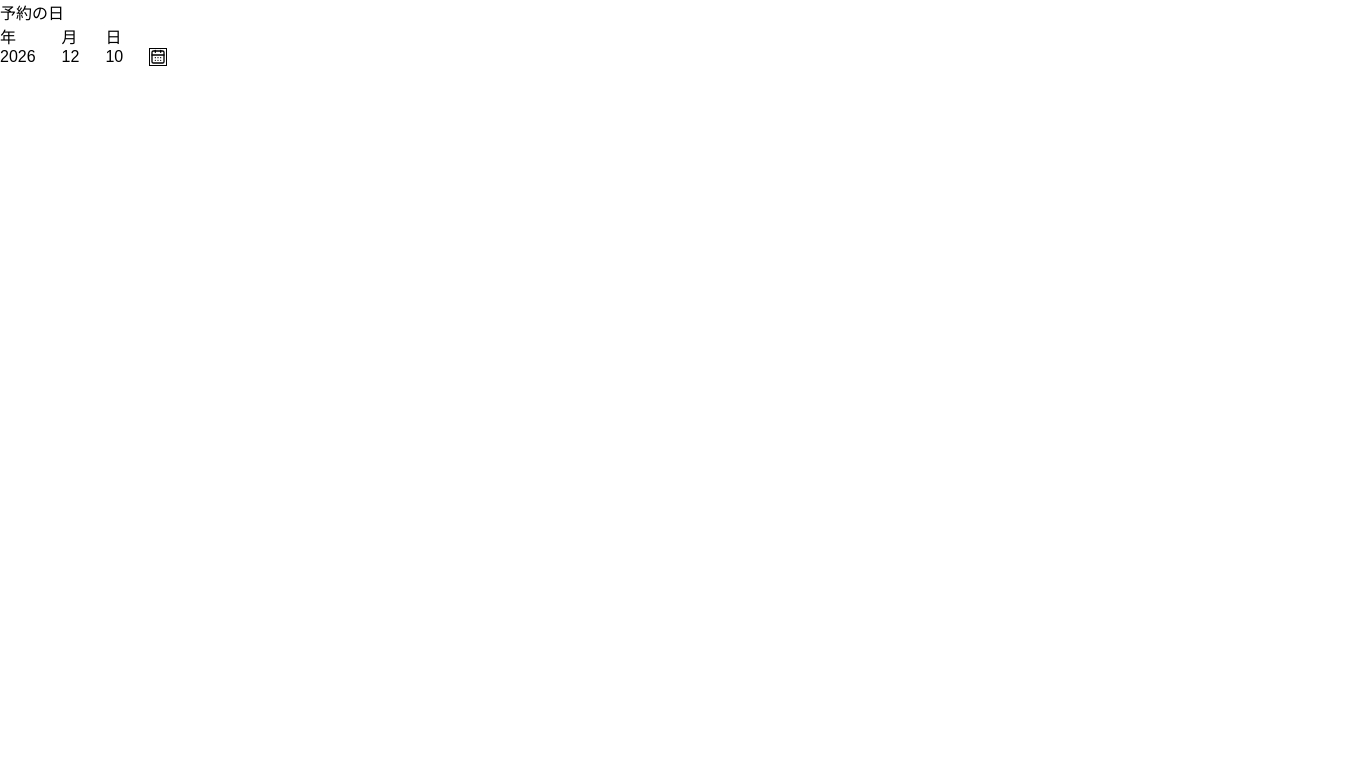
Test case: DatePicker › opens on the chosen month, writes the chosen day into the fields and gives the focus back
The width and height of the screenshot is (1366, 768).
Step 1. Click the button named "予約の日をカレンダーから選ぶ" → point(158, 57), box [149,48,167,66]
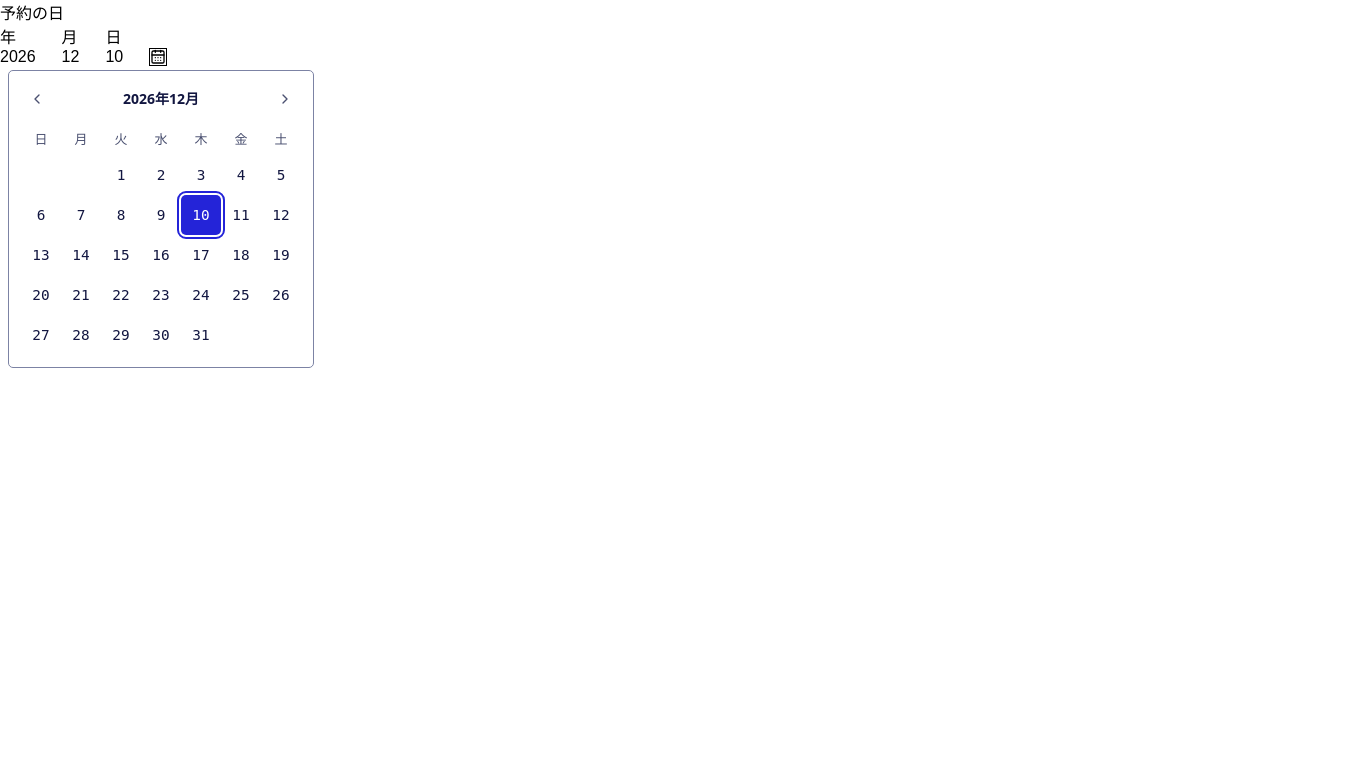
expect the table named "2026年12月" is shown: met, box [21,123,301,355]
Step 2. Press Arrowright Enter
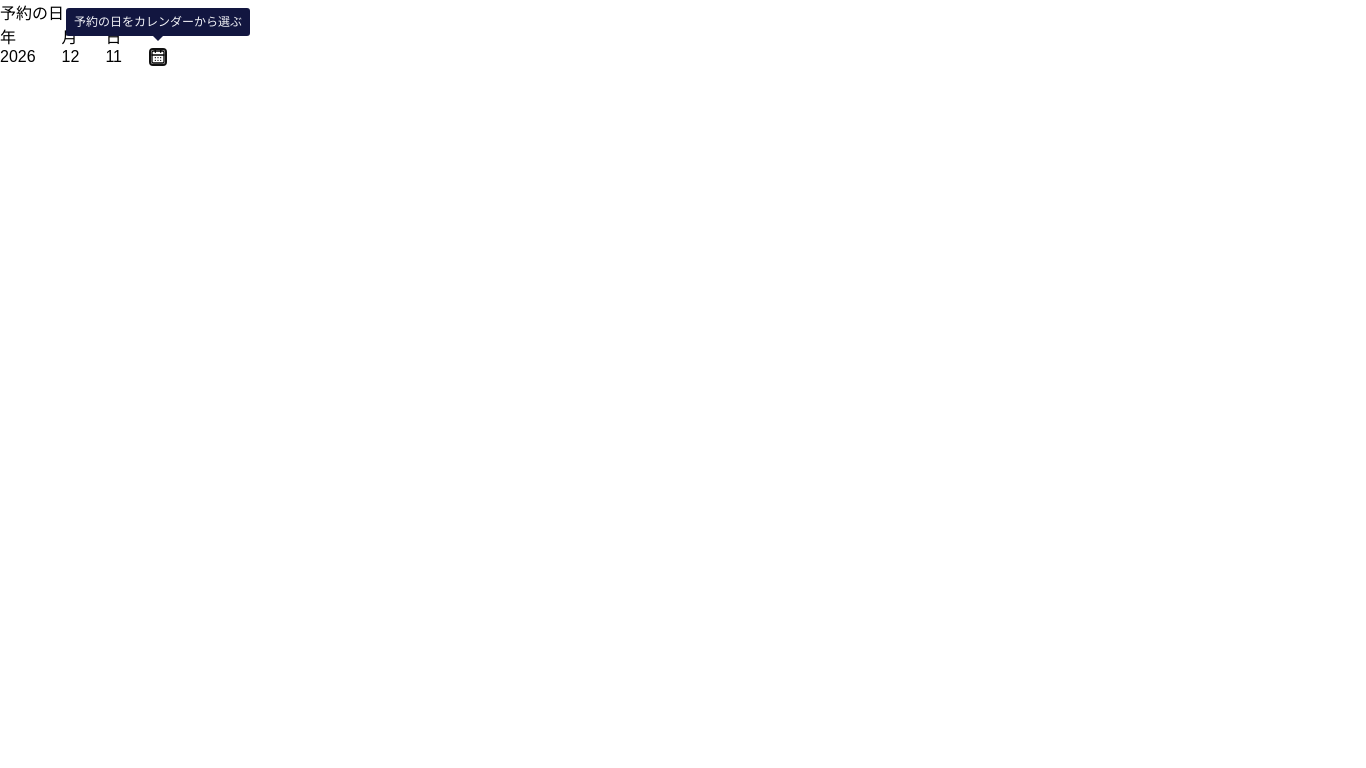
expect the dialog is gone: met
expect the field labelled "日" holds "11": met, box [105,48,149,66]
